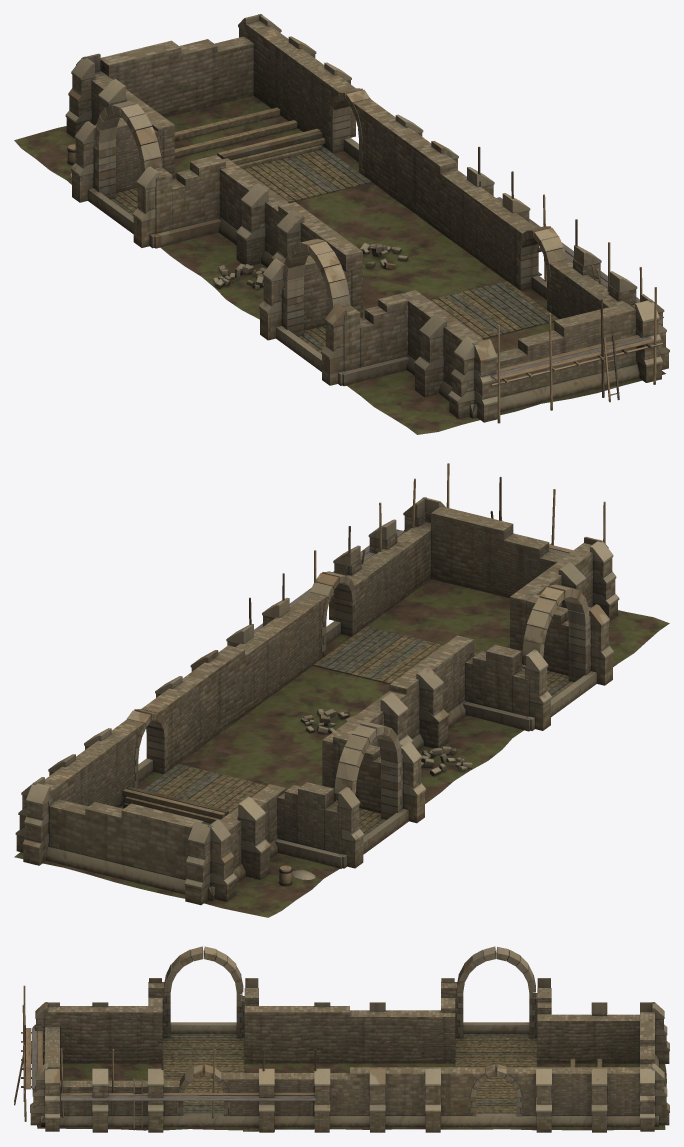
The model's file is tithe_barn_build2.glb.
The picture shows the model from 3 angles, top to bottom: view 1: azimuth 30°, elevation 25°; view 2: azimuth 150°, elevation 25°; view 3: azimuth 270°, elevation 25°; orthographic projection. The views are drawn at different scales.
Visible parts, largest first — view 1: tithe_barn_build2_LOD0; view 2: tithe_barn_build2_LOD0; view 3: tithe_barn_build2_LOD0.
Part boxes in pixels (left/top/right/bottom): tithe_barn_build2_LOD0: left=14, top=14, right=669, bottom=434; tithe_barn_build2_LOD0: left=14, top=463, right=669, bottom=917; tithe_barn_build2_LOD0: left=14, top=946, right=669, bottom=1132.
Size of what is drawn, in the model's own units: 14 by 5.47 by 36.77.
1 material, 1 textured.
